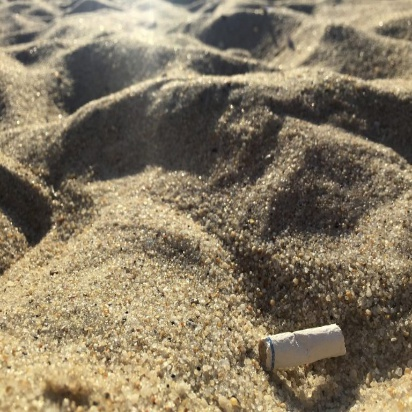cigarette: (252, 321, 353, 378)
